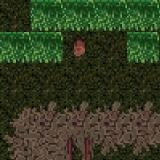Interaction: (62, 132, 97, 160)
Obstacle: (63, 32, 95, 63)
Slow: (30, 0, 160, 31), (0, 32, 63, 62), (127, 32, 160, 64)
